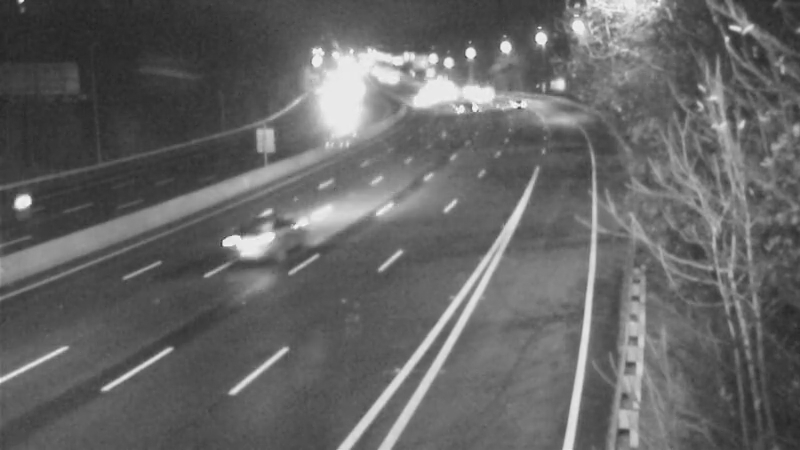vehicle: (214, 196, 294, 276), (1, 166, 68, 246), (459, 71, 509, 121), (399, 74, 449, 124), (488, 80, 538, 130), (439, 81, 489, 131)
